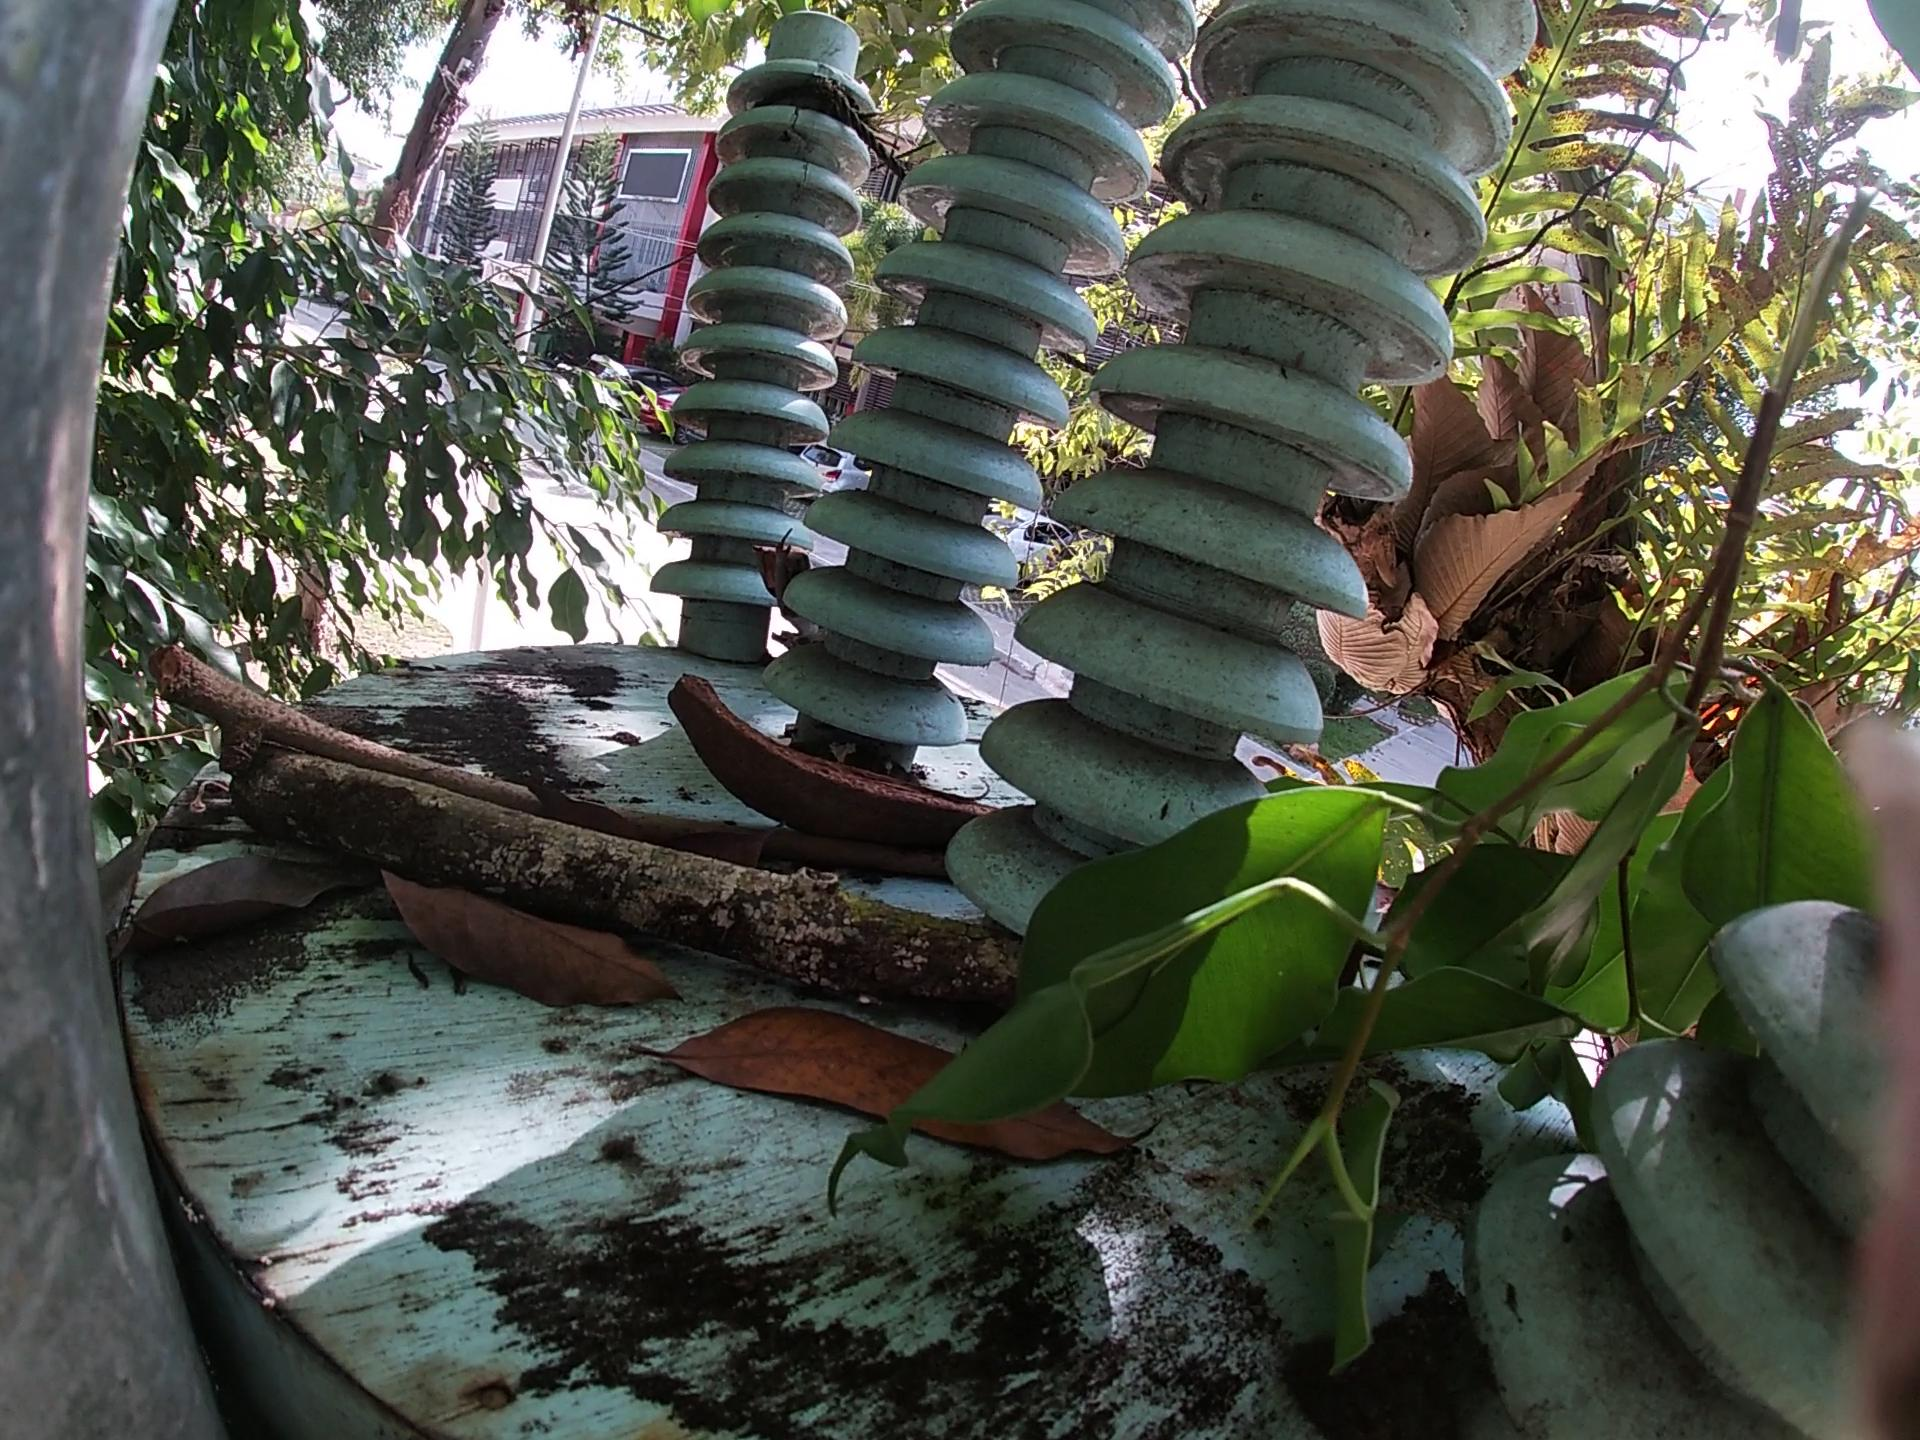branch with leaves: (906, 178, 1885, 1370)
leaf: (630, 1000, 1135, 1190), (361, 874, 671, 995), (106, 849, 366, 957)
mahogany fruit: (653, 646, 1022, 839)
tree branch: (194, 750, 1058, 1006), (121, 637, 955, 874)
